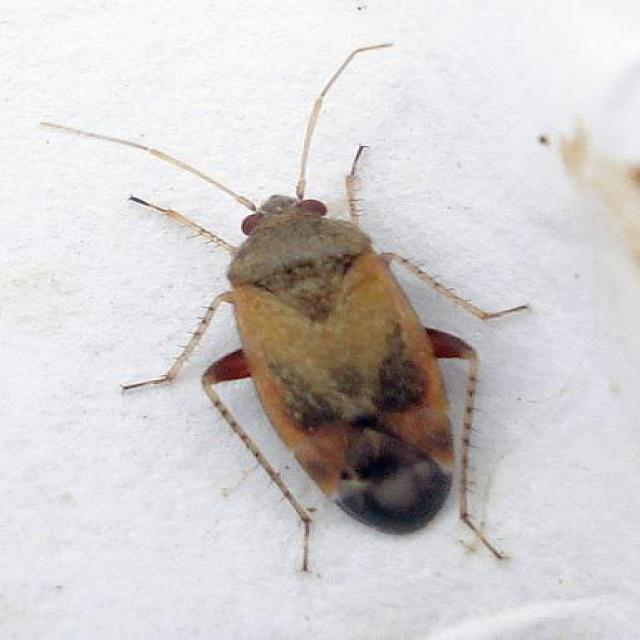Miridae-Adult-: (41, 29, 518, 564)
